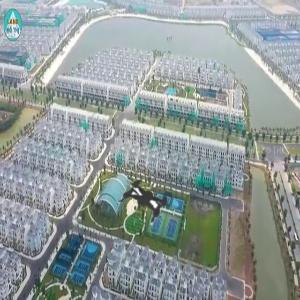drone: (74, 126, 214, 266)
